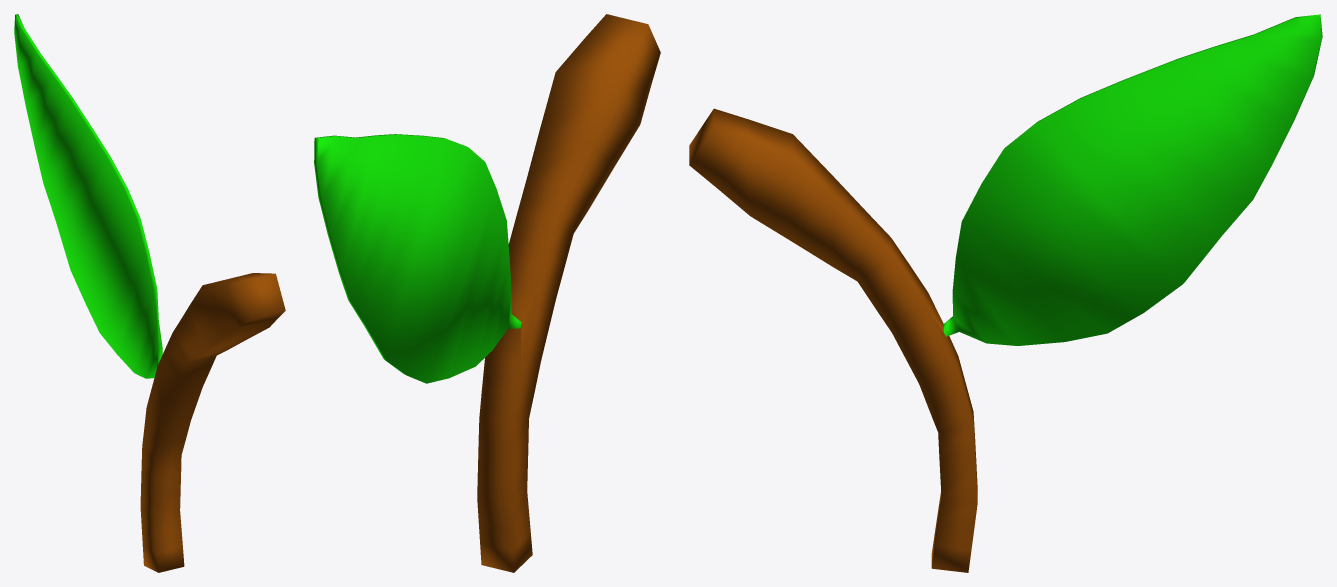
File: AppleKonoha.fbx
3 views of the same model, side by side, from view 1: azimuth 30°, elevation 25°; view 2: azimuth 150°, elevation 25°; view 3: azimuth 270°, elevation 25° (orthographic). The views are drawn at different scales.
Parts seen in each view (by area): view 1: Vert; view 2: Vert; view 3: Vert.
Boxes of the visible parts, left/top/right/bottom form: Vert: left=14, top=14, right=285, bottom=572; Vert: left=314, top=14, right=660, bottom=572; Vert: left=689, top=14, right=1322, bottom=572.
Bounding box in the file's own units: 0.0947 × 0.8065 × 0.8395.
